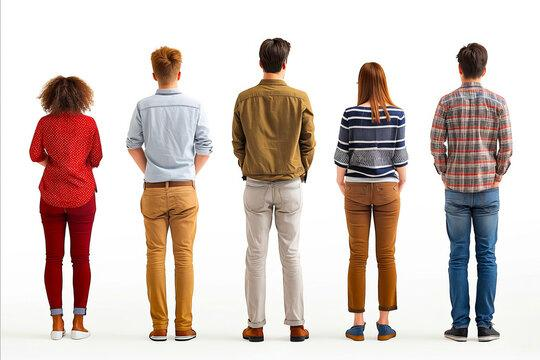long sleeve shirt: (429, 82, 514, 192), (231, 77, 316, 182), (125, 88, 214, 183), (28, 110, 103, 208)
sweater: (333, 103, 409, 182)
trousers: (242, 175, 306, 329), (139, 180, 201, 332), (444, 188, 500, 329), (343, 179, 401, 315), (38, 193, 97, 319)
